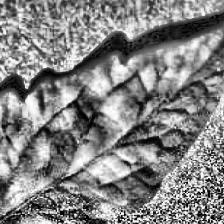leaf mold: (0, 2, 224, 224)
